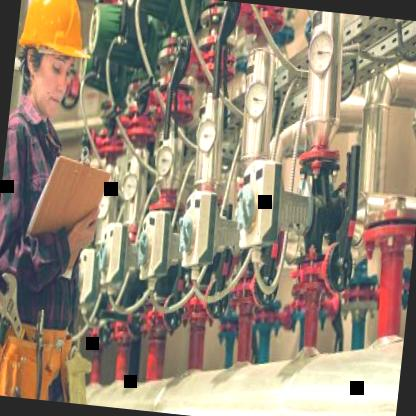helmet: (7, 0, 96, 129)
